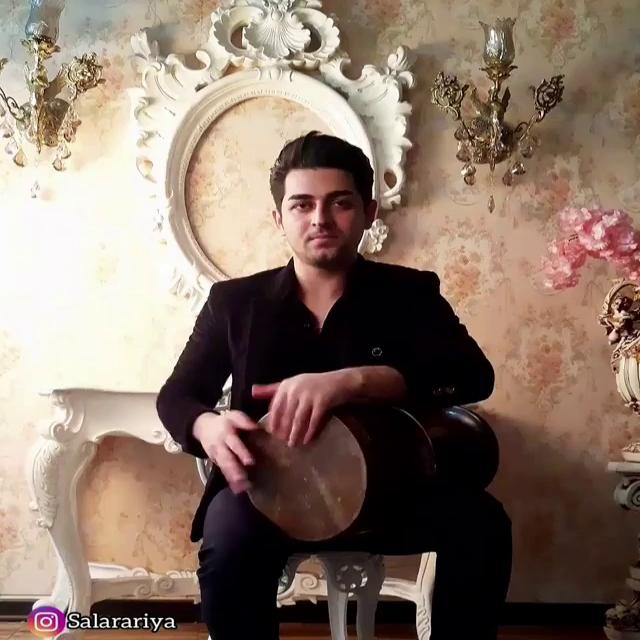Tombak: (208, 384, 494, 540)
